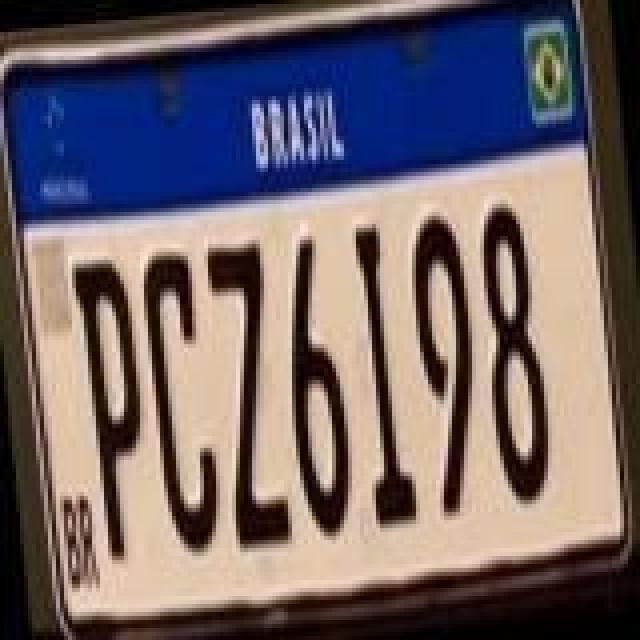6: (272, 232, 360, 544)
8: (468, 196, 556, 508)
9: (404, 208, 492, 520)
C: (136, 244, 224, 556)
I: (346, 220, 422, 532)
P: (68, 252, 156, 564)
Z: (202, 238, 294, 554)
